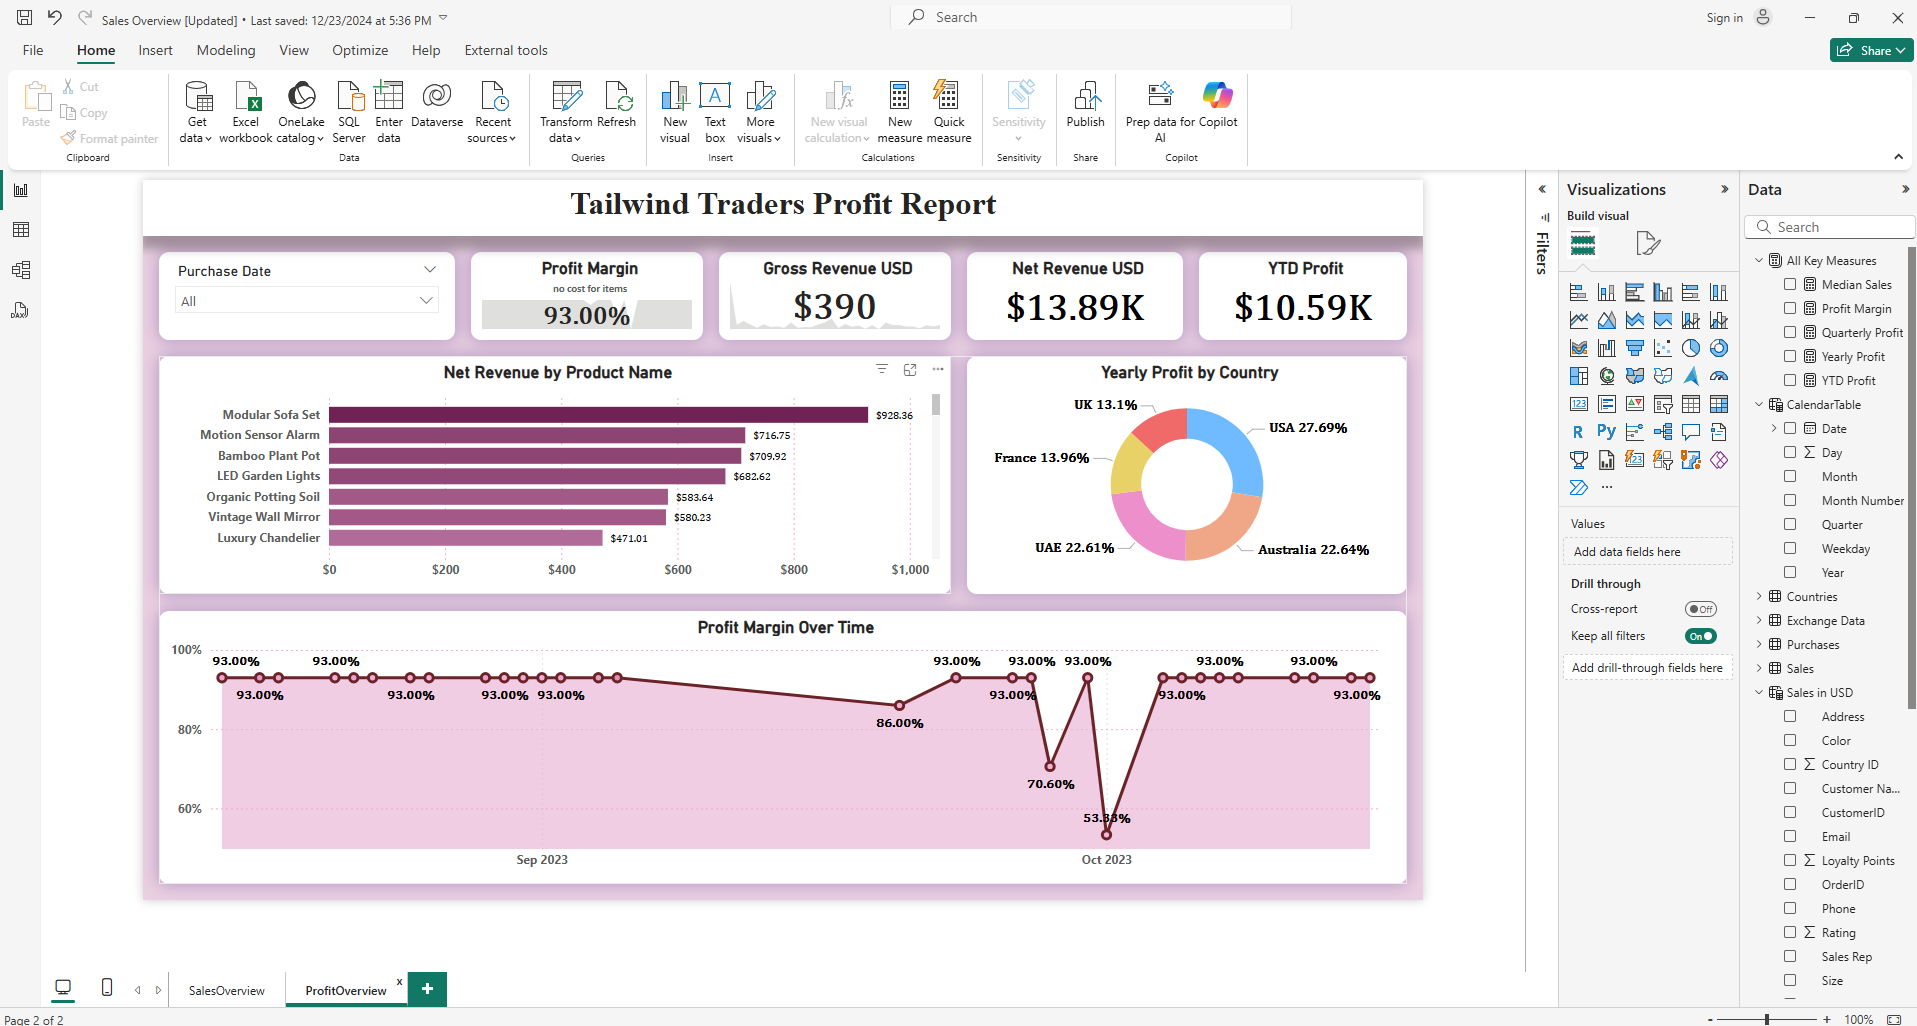

What the dashboard file says about the page in this screenshot:
{"tool":"powerbi","page":{"name":"ProfitOverview","canvas":[1280,720],"ordinal":1},"visuals":[{"type":"card","title":"YTD Profit","fields":{"Values":["All Key Measures.YTD Profit"]},"box":[1056,72,208,104],"z":0,"group":"g2"},{"type":"group","id":"g1","title":"Charts","box":[16,192,1248,512],"z":0},{"type":"barChart","title":"Net Revenue by Product Name","fields":{"Y":["Sum(Sales in USD.Net Revenue USD)"],"Category":["Sales in USD.Product Name"]},"box":[16,192,792,224],"z":0,"group":"g3"},{"type":"areaChart","title":"Profit Margin Over Time","fields":{"Category":["CalendarTable.Date"],"Y":["All Key Measures.Profit Margin"]},"box":[16,431.5,1248,272.5],"z":0,"group":"g1"},{"type":"group","id":"g2","title":"KPIs and Cards","box":[328,72,936,104],"z":500},{"type":"slicer","fields":{"Values":["CalendarTable.Date"]},"box":[16,72,304,104],"z":1000},{"type":"card","title":"Net Revenue USD","fields":{"Values":["Sum(Sales in USD.Net Revenue USD)"]},"box":[824,72,216,104],"z":1000,"group":"g2"},{"type":"group","id":"g3","title":"Group 1","box":[16,192,1248,224],"z":1000,"group":"g1"},{"type":"donutChart","title":"Yearly Profit by Country","fields":{"Category":["Sales in USD.Country Name"],"Y":["All Key Measures.Yearly Profit"]},"box":[824,192,440,224],"z":1000,"group":"g3"},{"type":"textbox","title":"Title","box":[0,0,1280,56],"z":2000},{"type":"kpi","title":"Gross Revenue USD","fields":{"Indicator":["Sum(Sales in USD.Gross Revenue USD)"],"TrendLine":["CalendarTable.Date"]},"box":[576,72,232,104],"z":2000,"group":"g2"},{"type":"kpi","title":"Profit Margin","fields":{"TrendLine":["CalendarTable.Date"],"Indicator":["All Key Measures.Profit Margin"]},"box":[328,72,232,104],"z":3000,"group":"g2"}]}

Visuals, with their boxes on the page's 1280x720 design canvas (x1, y1, x2, y2). These are canvas units, not pixel positions in the 1917x1026 screenshot, which may show the page scaled, cropped or inside an application window:
"YTD Profit" card: (1056, 72, 1264, 176)
"Charts" group: (16, 192, 1264, 704)
"Net Revenue by Product Name" barChart: (16, 192, 808, 416)
"Profit Margin Over Time" areaChart: (16, 432, 1264, 704)
"KPIs and Cards" group: (328, 72, 1264, 176)
slicer - CalendarTable.Date: (16, 72, 320, 176)
"Net Revenue USD" card: (824, 72, 1040, 176)
"Group 1" group: (16, 192, 1264, 416)
"Yearly Profit by Country" donutChart: (824, 192, 1264, 416)
"Title" textbox: (0, 0, 1280, 56)
"Gross Revenue USD" kpi: (576, 72, 808, 176)
"Profit Margin" kpi: (328, 72, 560, 176)
